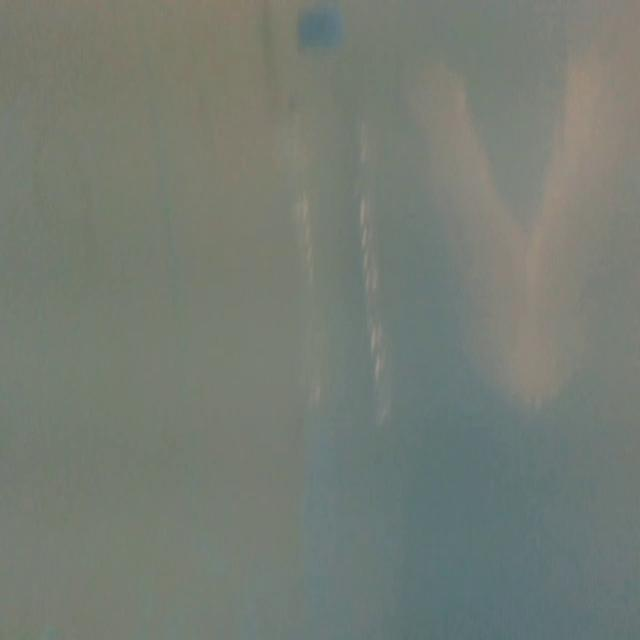plastic bags: (412, 44, 627, 424)
plastic bottle: (264, 2, 404, 440)
